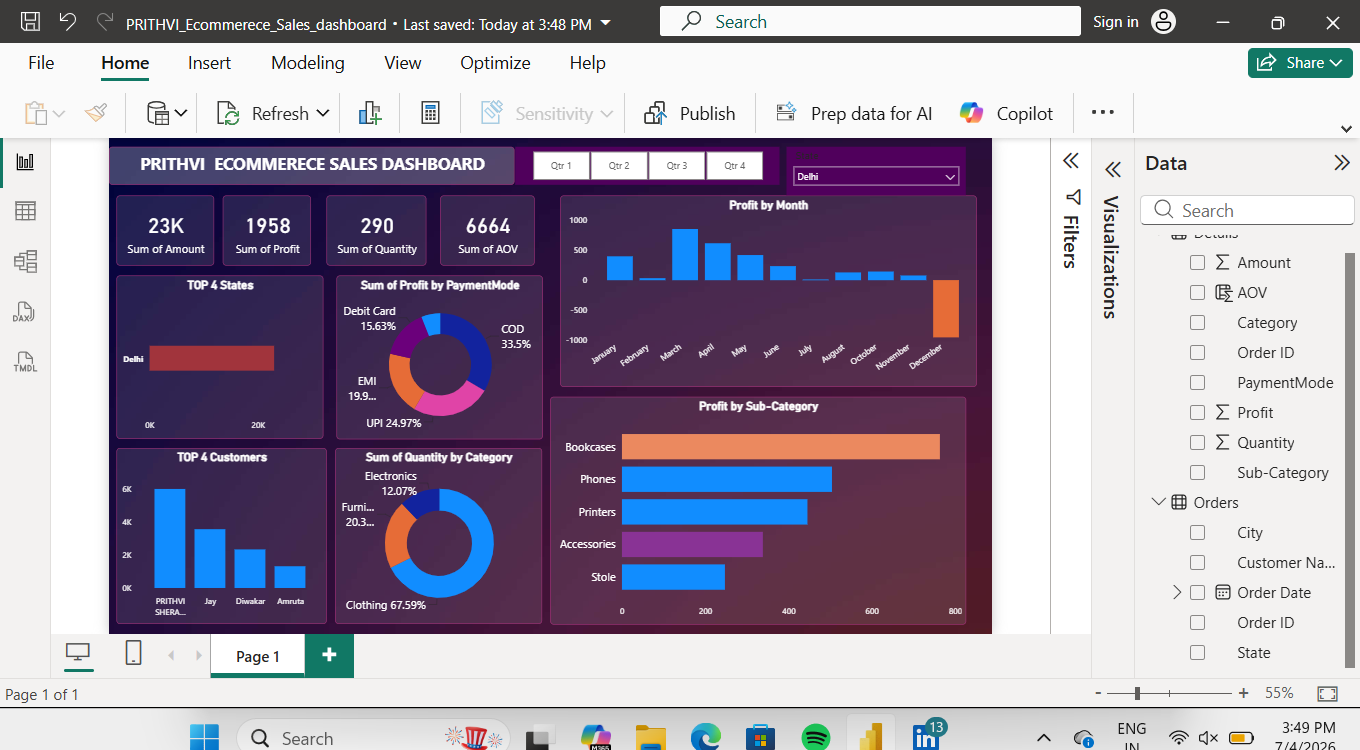

The page's visual inventory and layout, read from the dashboard file:
{"tool":"powerbi","page":{"name":"Page 1","canvas":[1280,720],"ordinal":0},"visuals":[{"type":"textbox","box":[0,13.3,588.3,55],"z":0},{"type":"columnChart","title":"Profit by Month","fields":{"Y":["Sum(Details.Profit)"],"Category":["Orders.Order Date.Variation.Date Hierarchy.Month"]},"box":[654.4,83.4,603.6,277.4],"z":1000},{"type":"barChart","title":"Profit by Sub-Category","fields":{"Category":["Details.Sub-Category"],"Y":["Sum(Details.Profit)"]},"box":[640,375,603.3,330],"z":2000},{"type":"donutChart","fields":{"Category":["Details.Category"],"Y":["Sum(Details.Quantity)"]},"box":[328.3,450,300,255],"z":3000},{"type":"donutChart","fields":{"Y":["Sum(Details.Profit)"],"Category":["Details.PaymentMode"]},"box":[329.9,199.4,299.1,237.5],"z":4000},{"type":"card","fields":{"Values":["Sum(Details.Amount)"]},"box":[10,83.3,141.7,101.7],"z":5000},{"type":"card","fields":{"Values":["Sum(Details.Quantity)"]},"box":[315,83.3,145,101.7],"z":6000},{"type":"card","fields":{"Values":["Sum(Details.Profit)"]},"box":[165,83.3,128.3,101.7],"z":7000},{"type":"card","fields":{"Values":["Sum(Details.AOV)"]},"box":[480,83.3,136.7,101.7],"z":8000},{"type":"barChart","title":"TOP 4 States","fields":{"Category":["Orders.State"],"Y":["Sum(Details.Amount)"]},"box":[10,200,300,236.7],"z":9000},{"type":"columnChart","title":"TOP 4 Customers","fields":{"Category":["Orders.Customer Name"],"Y":["Sum(Details.Amount)"]},"box":[10,450,305,255],"z":10000},{"type":"slicer","fields":{"Values":["Orders.Order Date.Variation.Date Hierarchy.Quarter"]},"box":[588.3,13.3,383.3,55],"z":11000},{"type":"slicer","fields":{"Values":["Orders.State"]},"box":[983.3,13.3,260,70],"z":12000}]}

Visuals, with their boxes on the page's 1280x720 design canvas (x1, y1, x2, y2). These are canvas units, not pixel positions in the 1360x750 screenshot, which may show the page scaled, cropped or inside an application window:
textbox: bbox(0, 13, 588, 68)
"Profit by Month" columnChart: bbox(654, 83, 1258, 361)
"Profit by Sub-Category" barChart: bbox(640, 375, 1243, 705)
donutChart - Details.Category x Sum(Details.Quantity): bbox(328, 450, 628, 705)
donutChart - Sum(Details.Profit) x Details.PaymentMode: bbox(330, 199, 629, 437)
card - Sum(Details.Amount): bbox(10, 83, 152, 185)
card - Sum(Details.Quantity): bbox(315, 83, 460, 185)
card - Sum(Details.Profit): bbox(165, 83, 293, 185)
card - Sum(Details.AOV): bbox(480, 83, 617, 185)
"TOP 4 States" barChart: bbox(10, 200, 310, 437)
"TOP 4 Customers" columnChart: bbox(10, 450, 315, 705)
slicer - Orders.Order Date.Variation.Date Hierarchy.Quarter: bbox(588, 13, 972, 68)
slicer - Orders.State: bbox(983, 13, 1243, 83)
